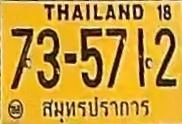1: (137, 28, 145, 85)
2: (154, 28, 176, 84)
3: (36, 28, 60, 88)
5: (80, 27, 102, 87)
7: (10, 28, 33, 89), (105, 27, 126, 87)
SPK: (38, 95, 152, 119)
